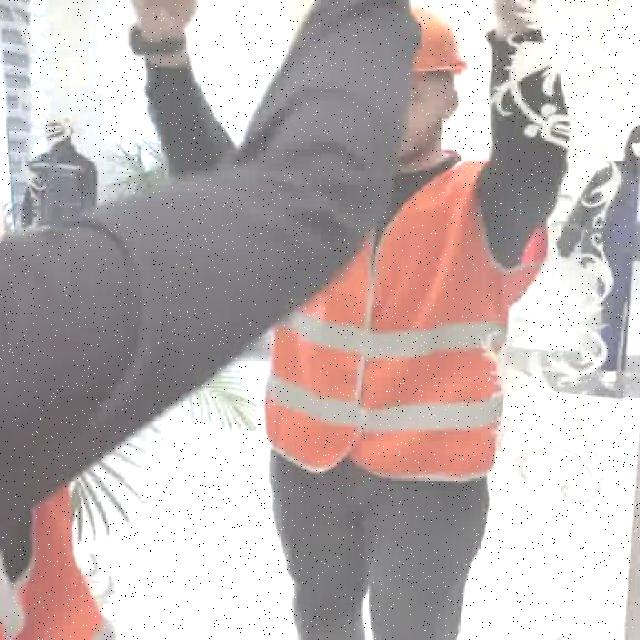Mask: (276, 144, 553, 482), (554, 160, 638, 385), (19, 125, 110, 244)
